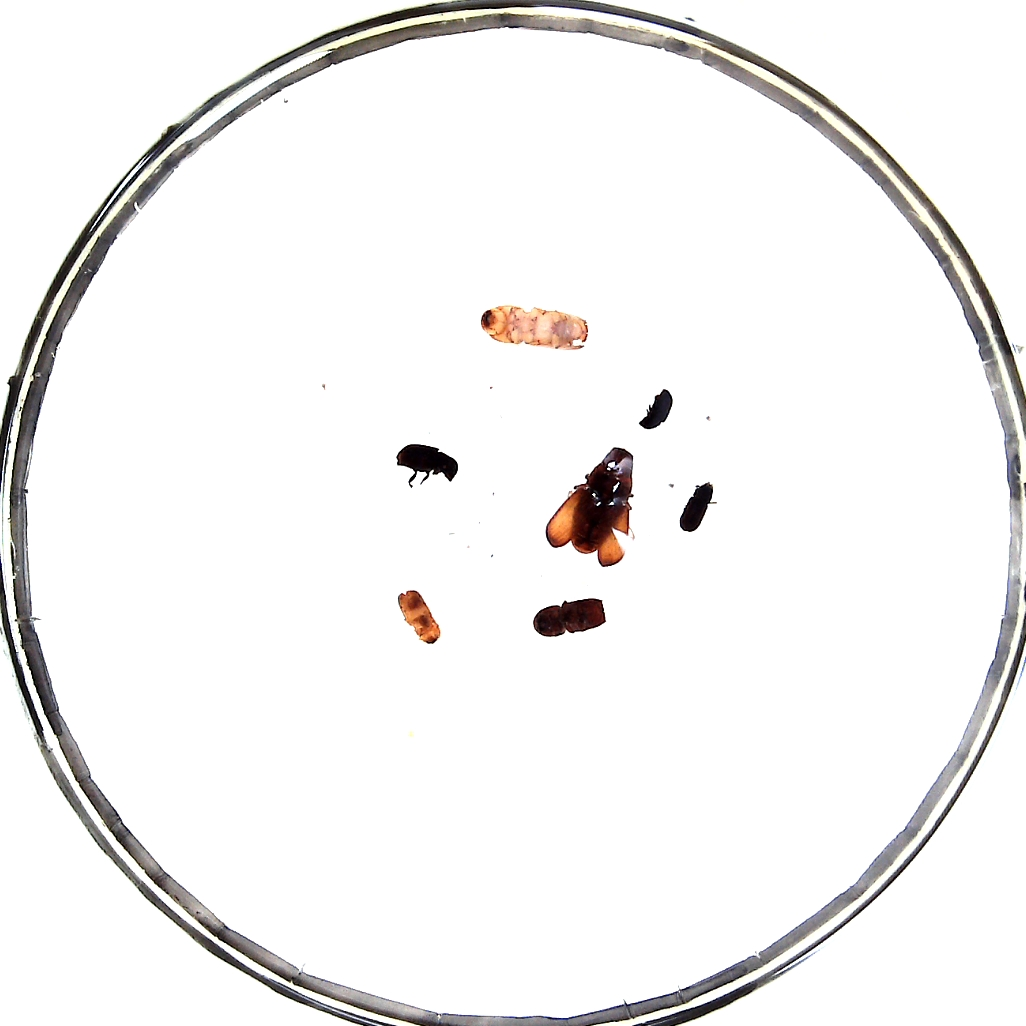Boerner: (479, 302, 591, 353)
Leconte: (546, 445, 634, 569)
Linnaeus: (533, 596, 606, 638)
acuminatus: (398, 587, 439, 647)
armandi: (394, 441, 460, 486)
coleoptera: (679, 483, 713, 533), (640, 387, 673, 430)
